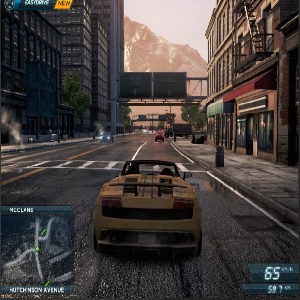building: (206, 11, 300, 143), (38, 1, 129, 133)
garbage: (214, 147, 229, 169)
road sign: (116, 69, 191, 101)
tree: (58, 71, 88, 127), (177, 99, 204, 134)
vehicle: (165, 117, 190, 138), (100, 131, 113, 143), (153, 129, 164, 142), (141, 128, 150, 134)
